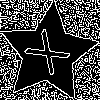X: (23, 28, 79, 84)
